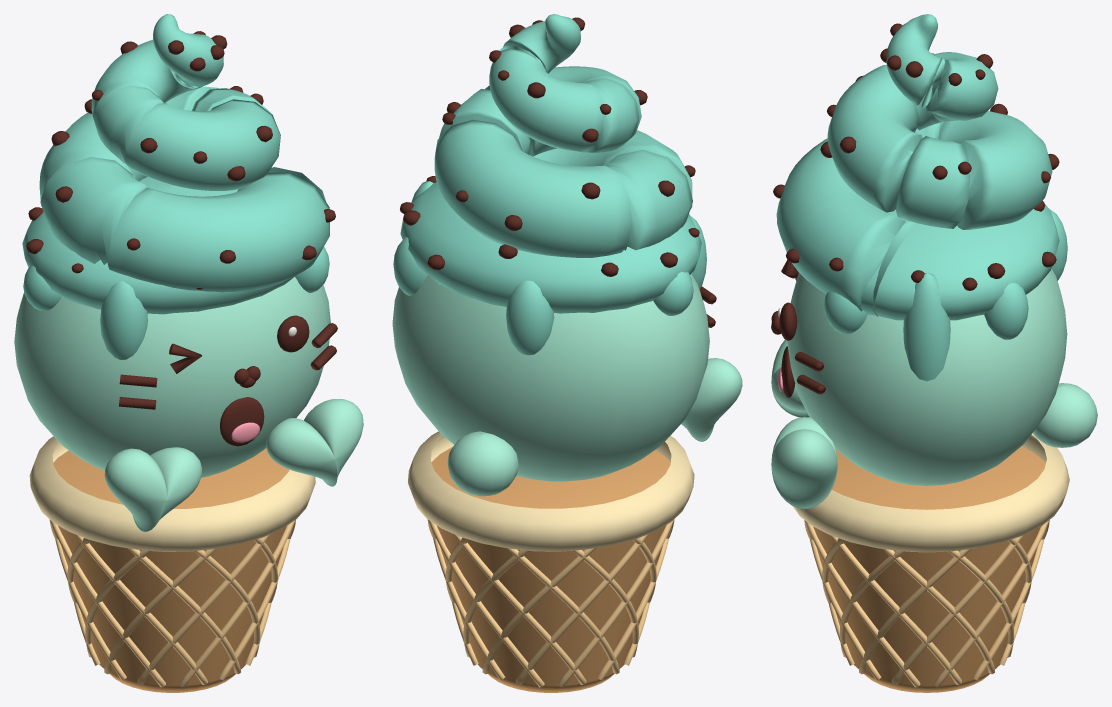
File: mint-chocolate.glb
3 views of the same model, side by side, from view 1: azimuth 30°, elevation 25°; view 2: azimuth 150°, elevation 25°; view 3: azimuth 270°, elevation 25° (orthographic).
Visible parts, largest first — view 1: mint-chocolate; view 2: mint-chocolate; view 3: mint-chocolate.
Boxes of the visible parts, <box> form: mint-chocolate: <box>14,14,363,692</box>; mint-chocolate: <box>392,14,742,692</box>; mint-chocolate: <box>771,14,1097,692</box>.
Bounding box in the file's own units: 1.29 × 2.8 × 1.28.
1 material, 1 textured.
